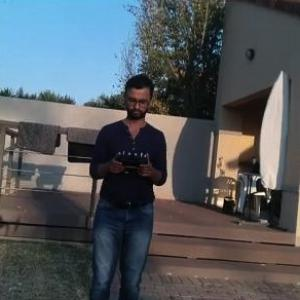follow: (81, 71, 174, 299)
